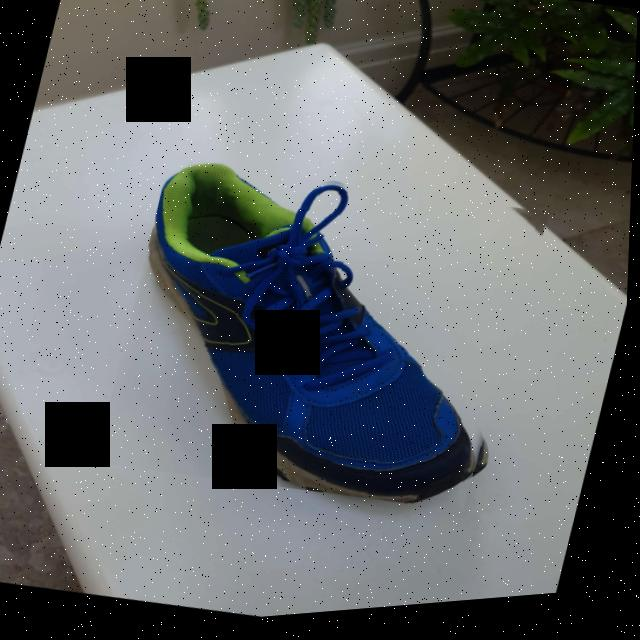shoe: (96, 132, 555, 545)
